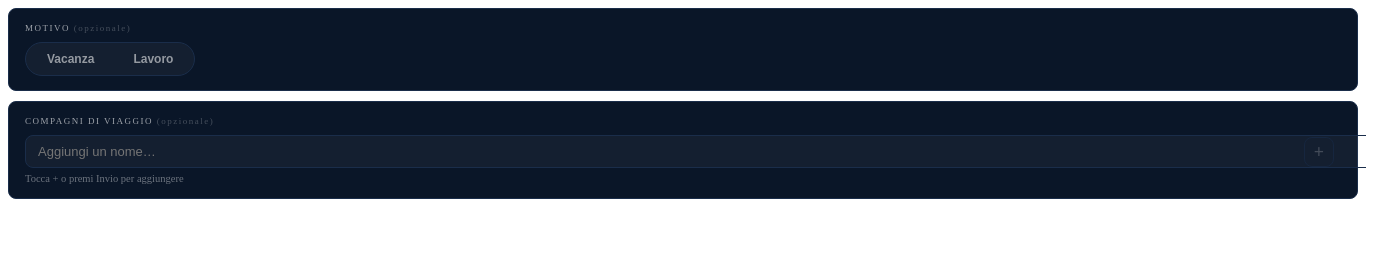
Scenario: TripPurposeCompanions — aggiungere più persone è VISIBILE › col solo bottone (mai un Invio) si aggiungono DUE compagni di fila
The image size is (1378, 272).
Type "Marta" into the dropdown with placeholder "Aggiungi un nome…". click: [696, 152]
box: [25, 135, 1366, 168]
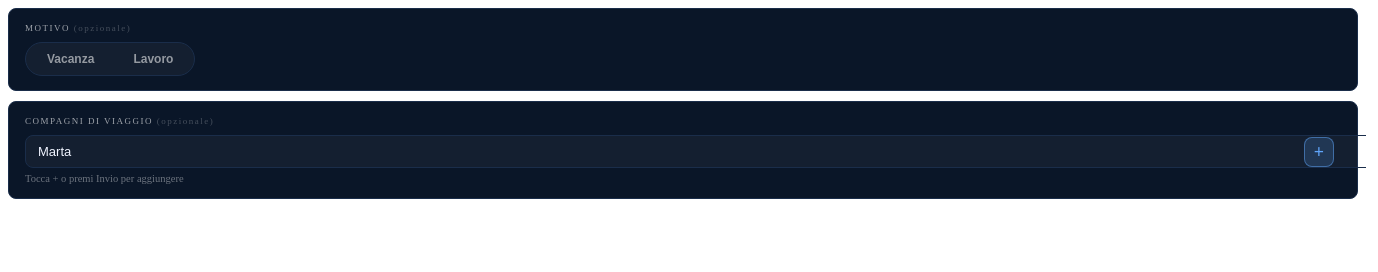
Click the button named "Aggiungi il compagno". click: [1319, 152]
box: [1304, 136, 1334, 166]
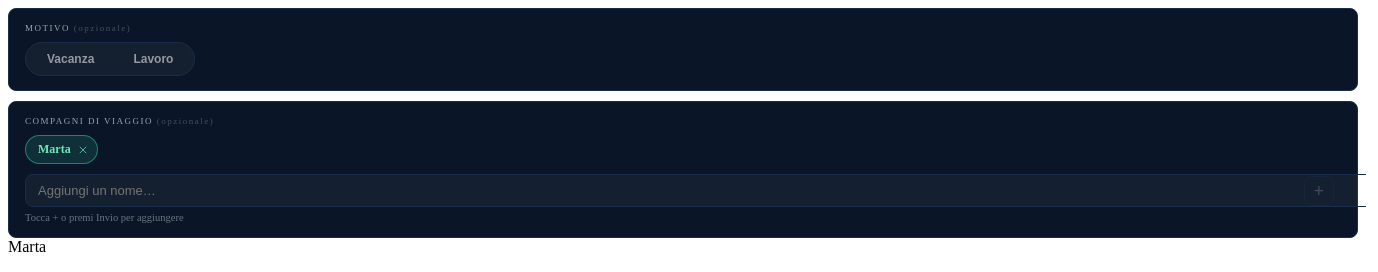
Type "Luca" into the dropdown with placeholder "Aggiungi un nome…". click: [696, 190]
box: [25, 174, 1366, 207]
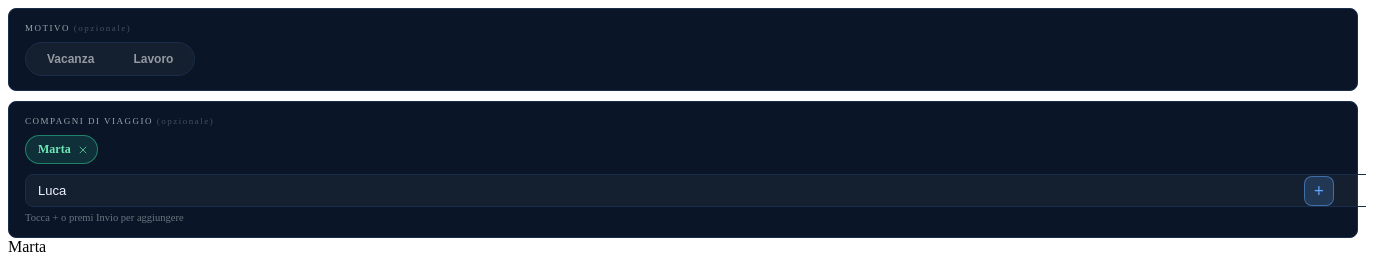
Click the button named "Aggiungi il compagno". click: [1319, 190]
box: [1304, 176, 1334, 206]
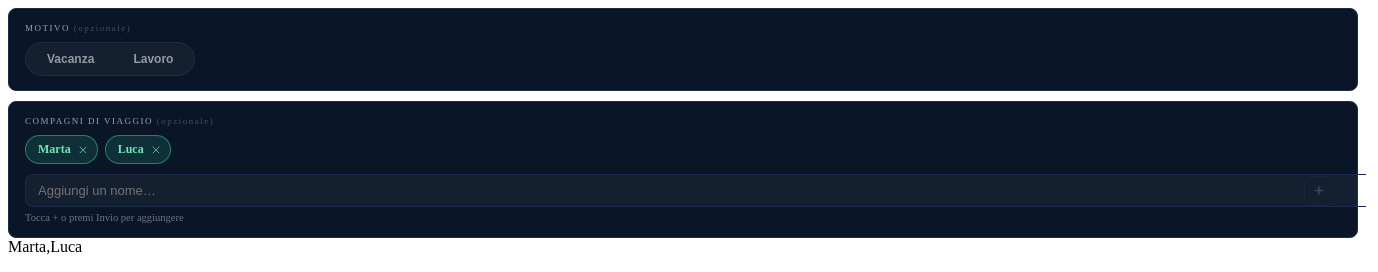
expect the text with test id "companions" reads "Marta,Luca": met, box [8, 238, 82, 255]
